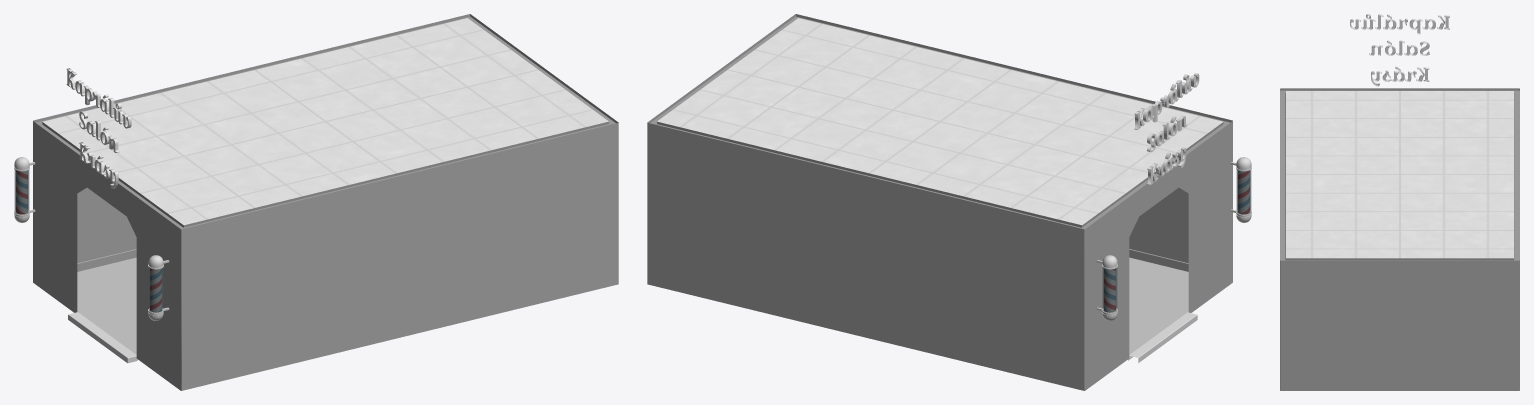
The model's file is salon.fbx.
3 renders of one model, left to right at view 1: azimuth 30°, elevation 25°; view 2: azimuth 150°, elevation 25°; view 3: azimuth 270°, elevation 25°, orthographic. The views are drawn at different scales.
Visible parts, largest first — view 1: room, roof, Text.001, barber pole, salon práh, room.001, barber stripes, barber stripes.001; view 2: room, roof, Text.001, barber pole, salon práh, room.001, barber stripes.001, barber stripes; view 3: roof, room, Text.001.
Part boxes in pixels (bbox=[...]): room: bbox=[33, 14, 618, 390]; roof: bbox=[36, 16, 615, 229]; Text.001: bbox=[66, 68, 131, 188]; barber pole: bbox=[14, 157, 169, 320]; salon práh: bbox=[68, 312, 137, 363]; room.001: bbox=[77, 249, 136, 271]; barber stripes: bbox=[150, 268, 161, 312]; barber stripes.001: bbox=[16, 170, 27, 214]; room: bbox=[647, 14, 1232, 390]; roof: bbox=[650, 16, 1229, 229]; Text.001: bbox=[1134, 73, 1199, 185]; barber pole: bbox=[1096, 157, 1251, 320]; salon práh: bbox=[1128, 312, 1197, 362]; room.001: bbox=[1129, 249, 1188, 271]; barber stripes.001: bbox=[1104, 268, 1115, 312]; barber stripes: bbox=[1238, 170, 1249, 214]; roof: bbox=[1280, 90, 1519, 260]; room: bbox=[1280, 88, 1519, 390]; Text.001: bbox=[1350, 14, 1449, 86].
Size of the model in its own units: 898 by 468 by 500.
